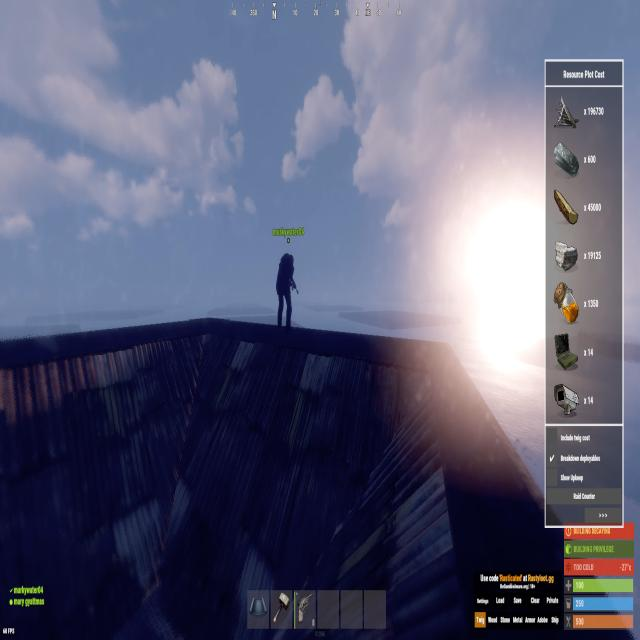Player: (274, 251, 296, 327)
